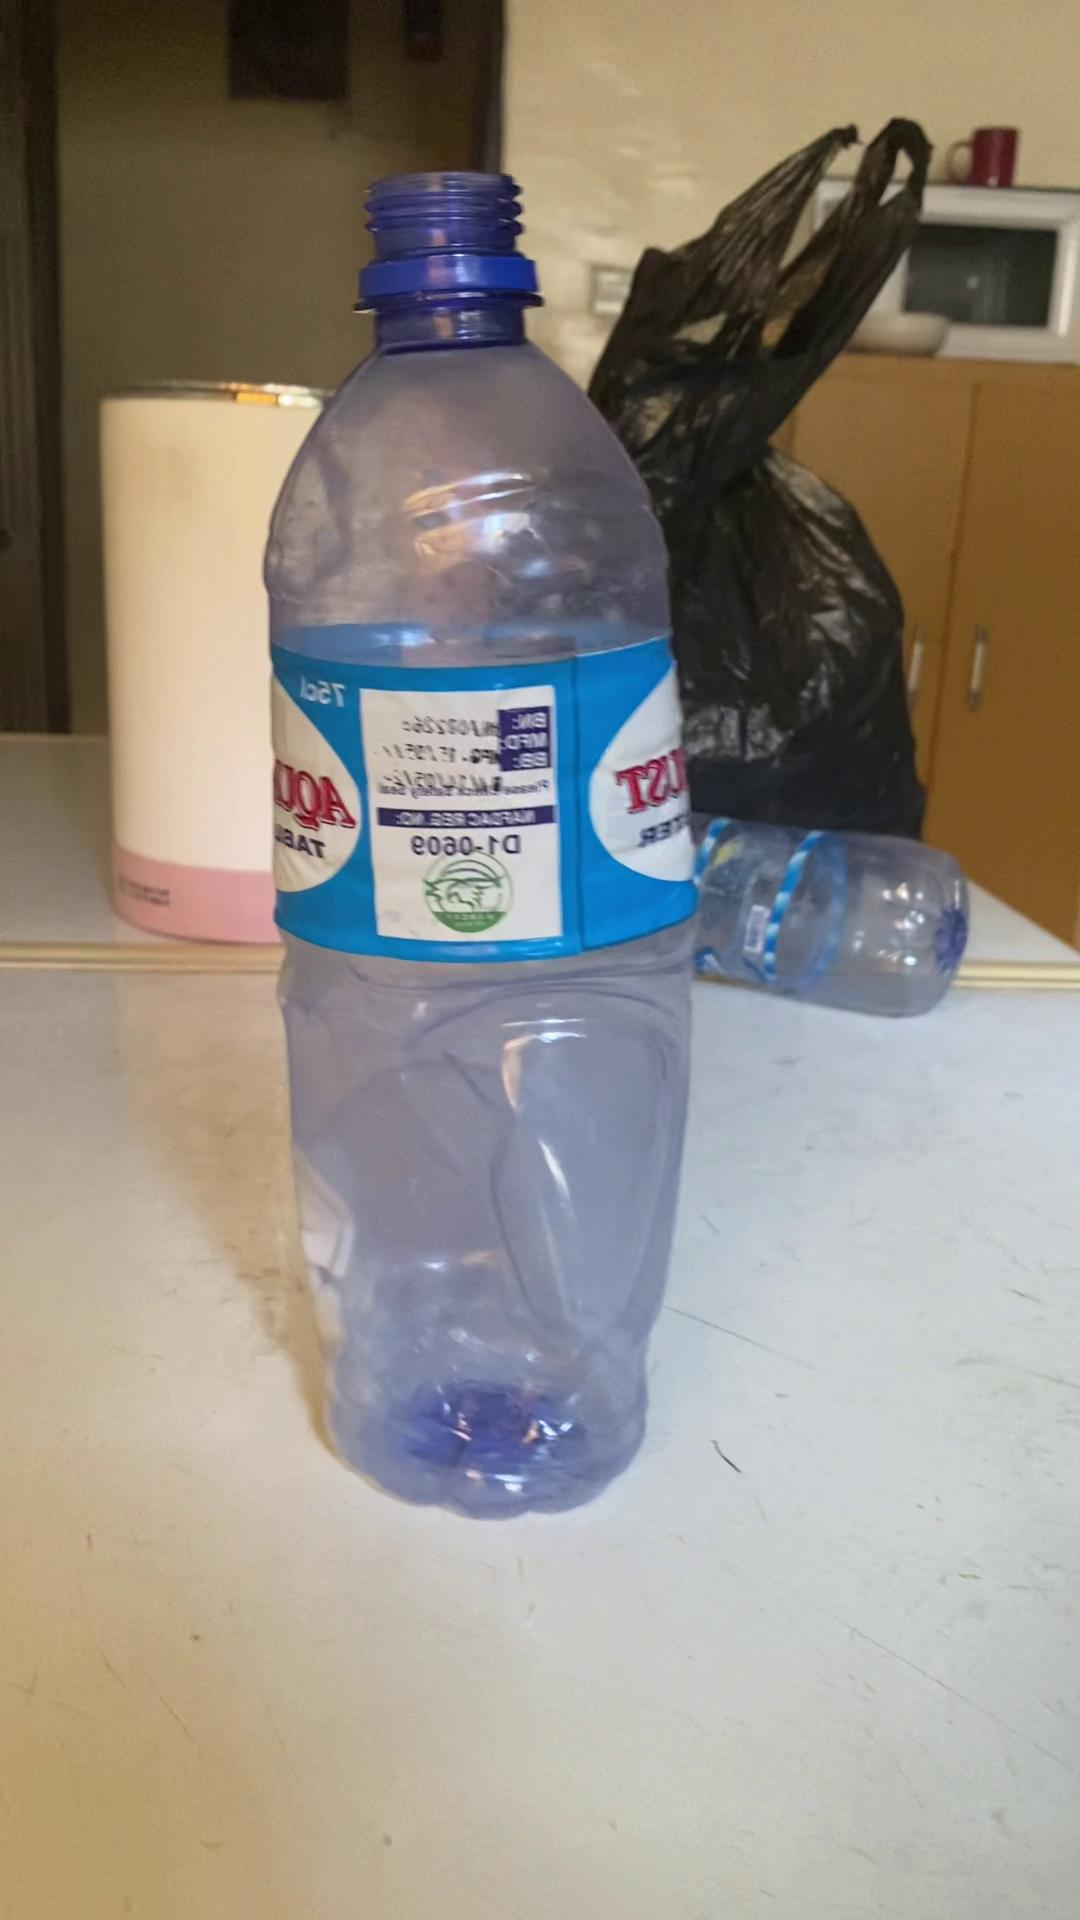crumbled: (248, 156, 699, 1531)
label: (264, 641, 686, 957)
no-cap: (352, 169, 546, 298)
